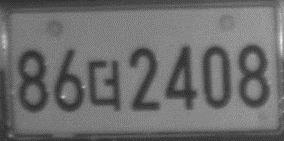0: (198, 44, 233, 109)
2: (127, 46, 161, 112)
4: (162, 44, 198, 112)
6: (53, 46, 86, 112)
8: (235, 42, 270, 108), (15, 47, 50, 112)
더: (85, 58, 122, 113)
